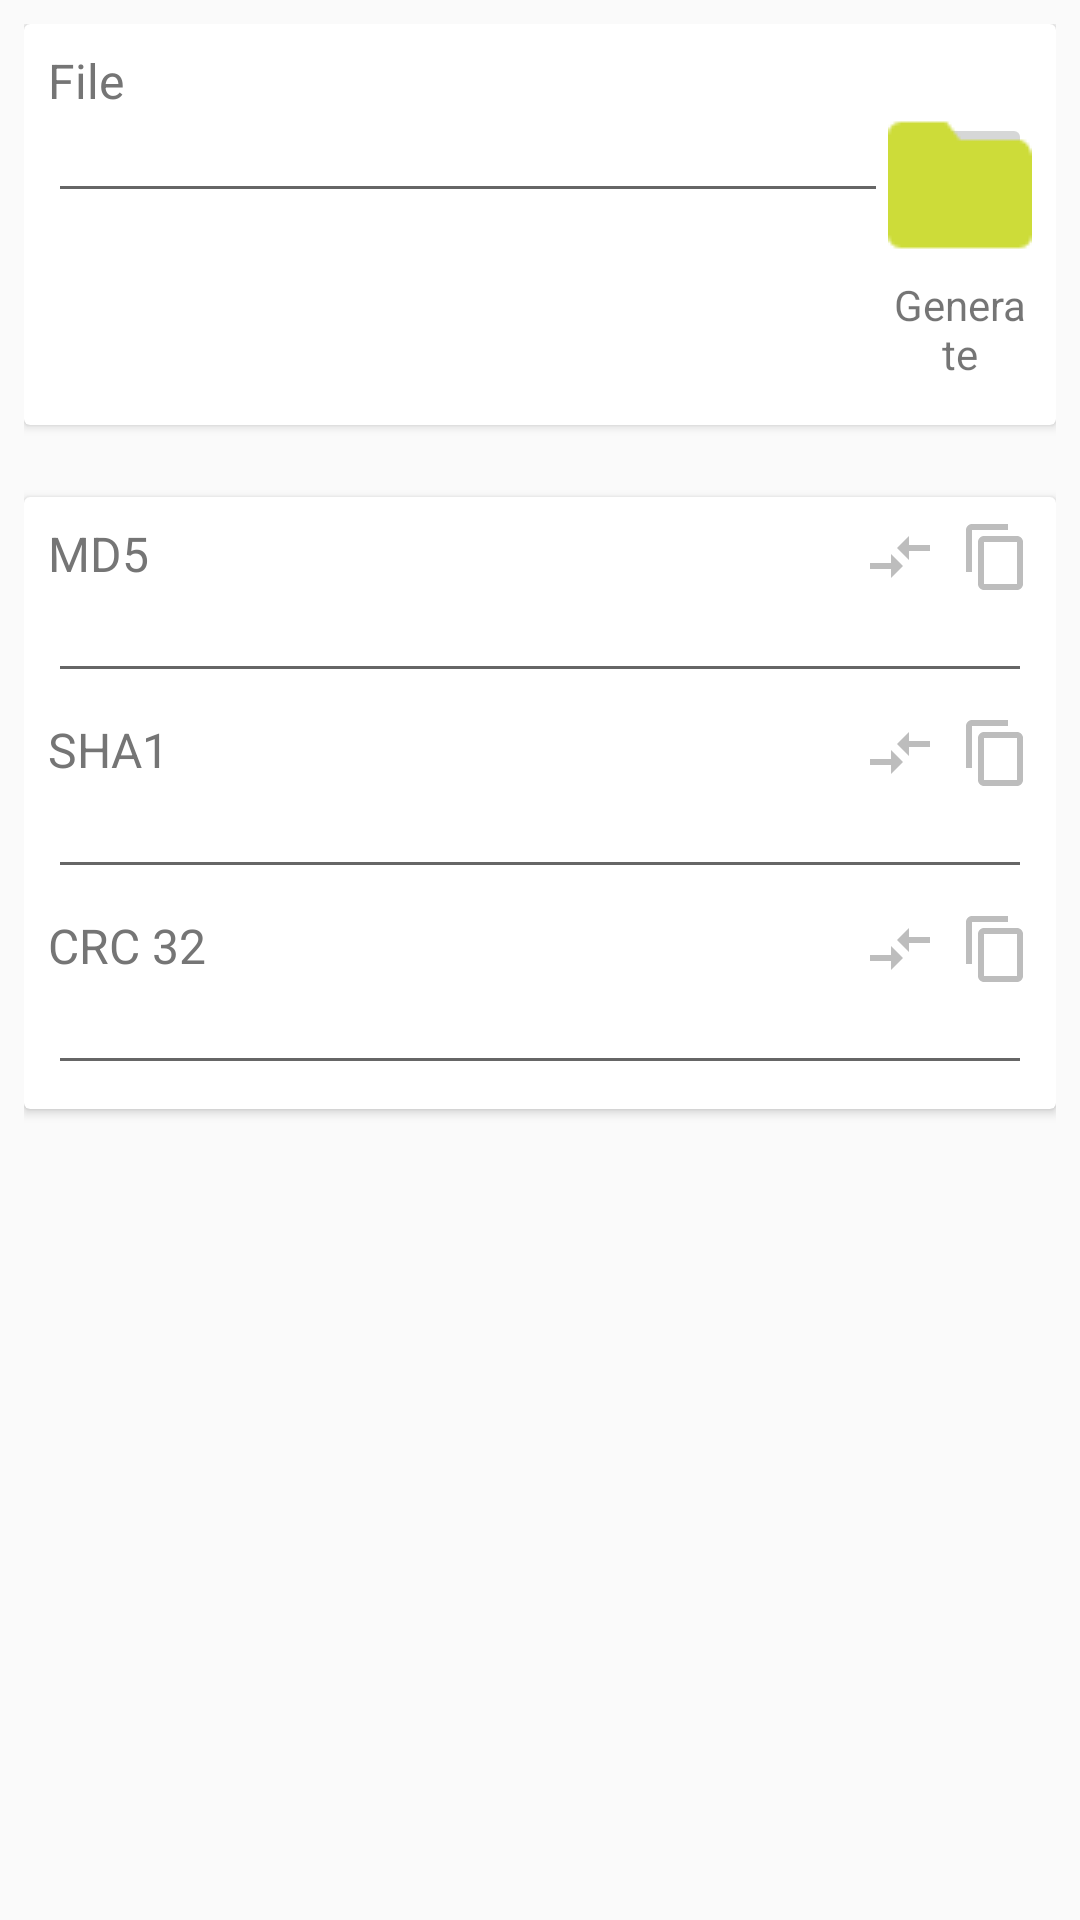

Icons on this 1080×1920 Android screen, each with its box as BBox(x1, y1, x2, y2):
compare arrows: BBox(870, 536, 930, 578), BBox(870, 732, 930, 774), BBox(870, 928, 930, 970)
content: BBox(966, 524, 1023, 590), BBox(966, 720, 1023, 786), BBox(966, 916, 1023, 982)
file: BBox(888, 121, 1032, 249)
